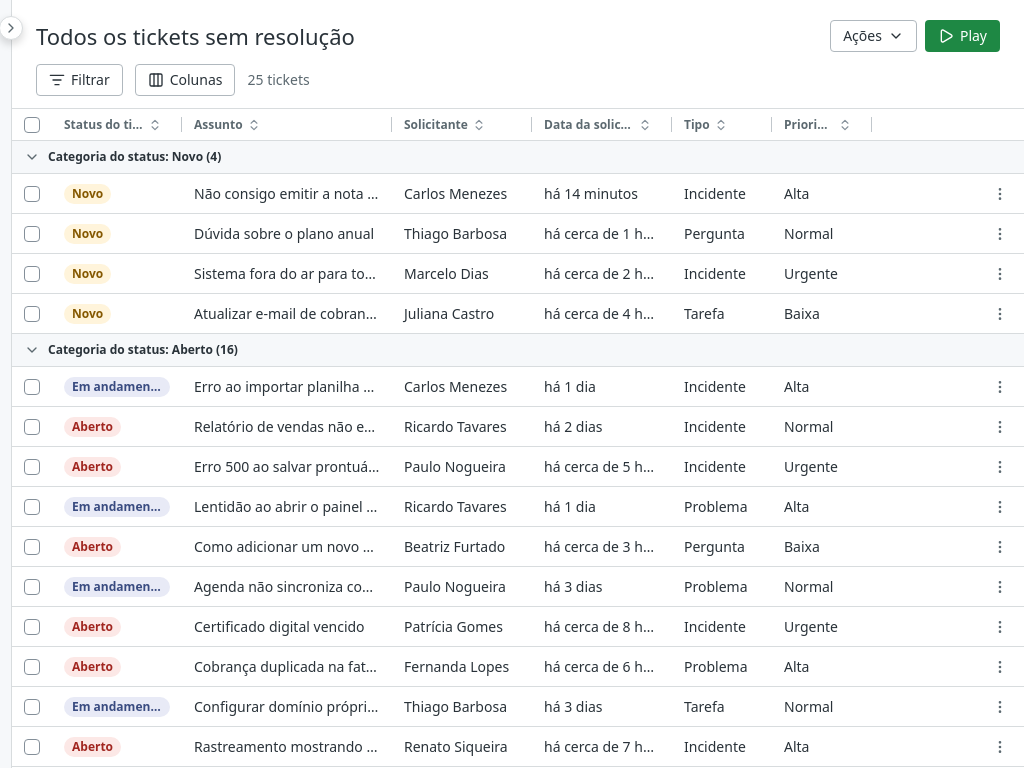
Views › filtra pelo drawer e persiste o filtro ao trocar de view
The image size is (1024, 768).
Click the button "Filtrar": click(79, 80) x1=36 y1=64 x2=123 y2=96
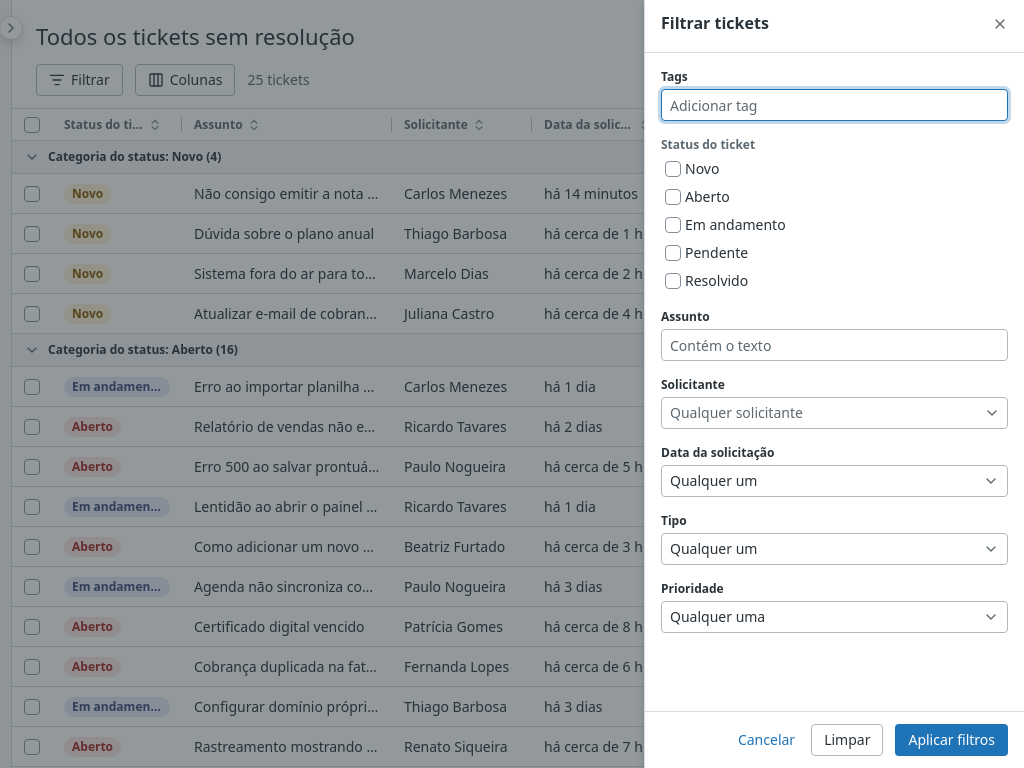
Click the checkbox labelled "Pendente": click(673, 253) x1=665 y1=245 x2=681 y2=261
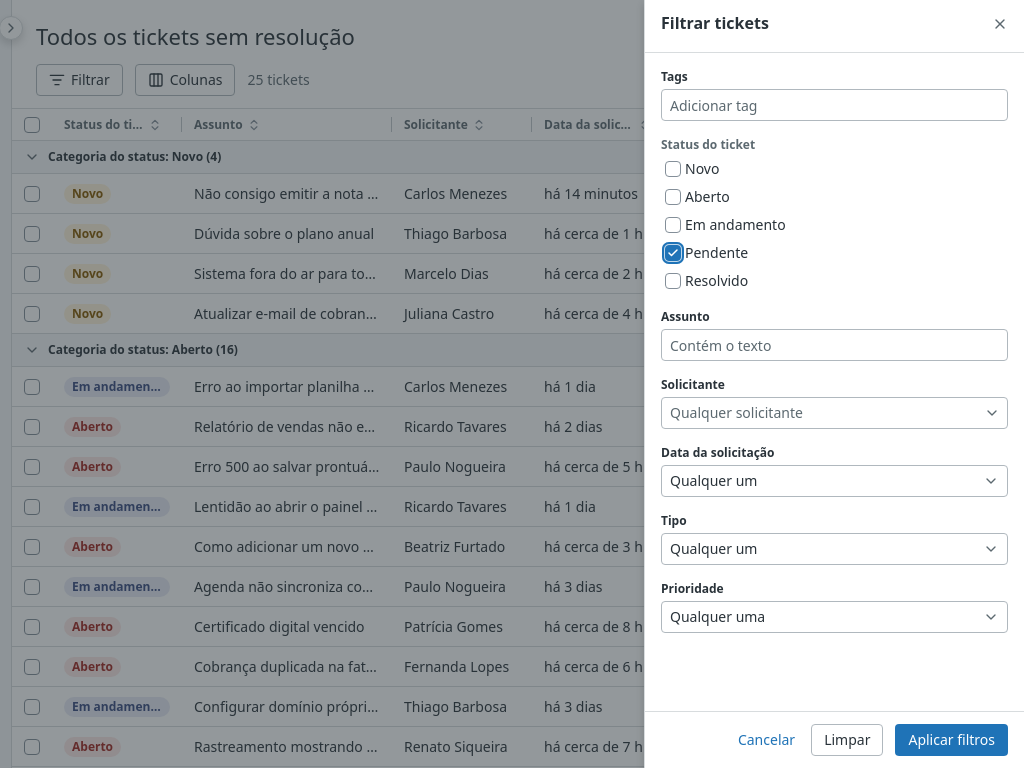
Click the button "Aplicar filtros": click(952, 740) x1=895 y1=724 x2=1008 y2=756
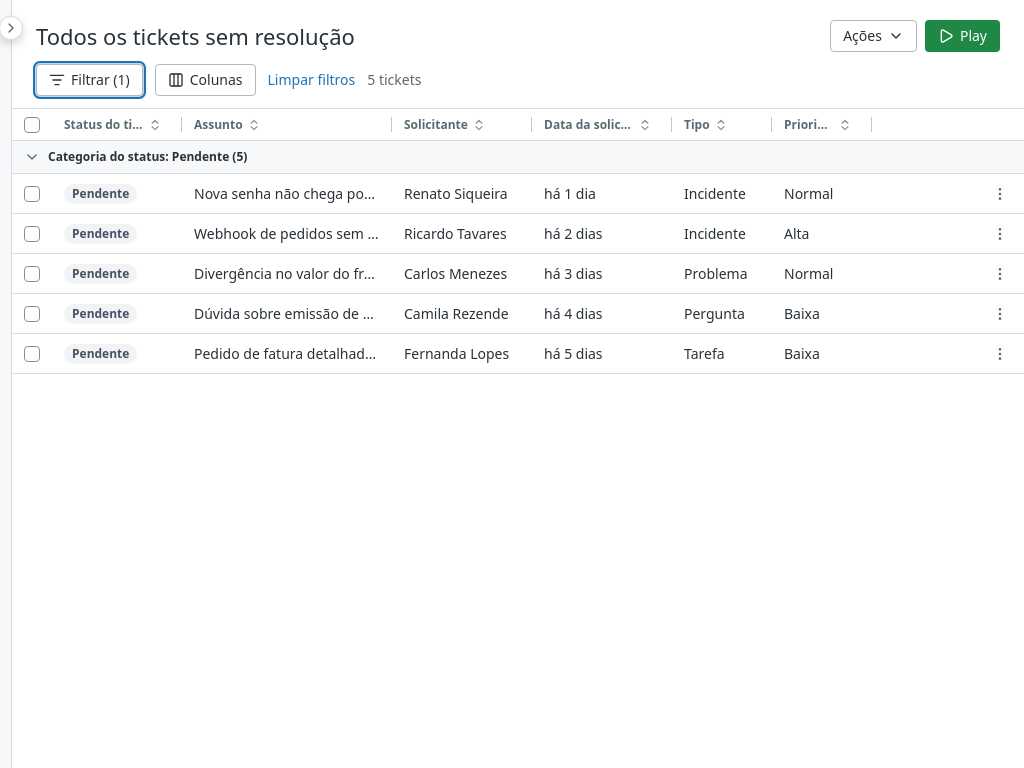
Result: the button "Filtrar (1)" is shown at x1=36 y1=64 x2=143 y2=96
